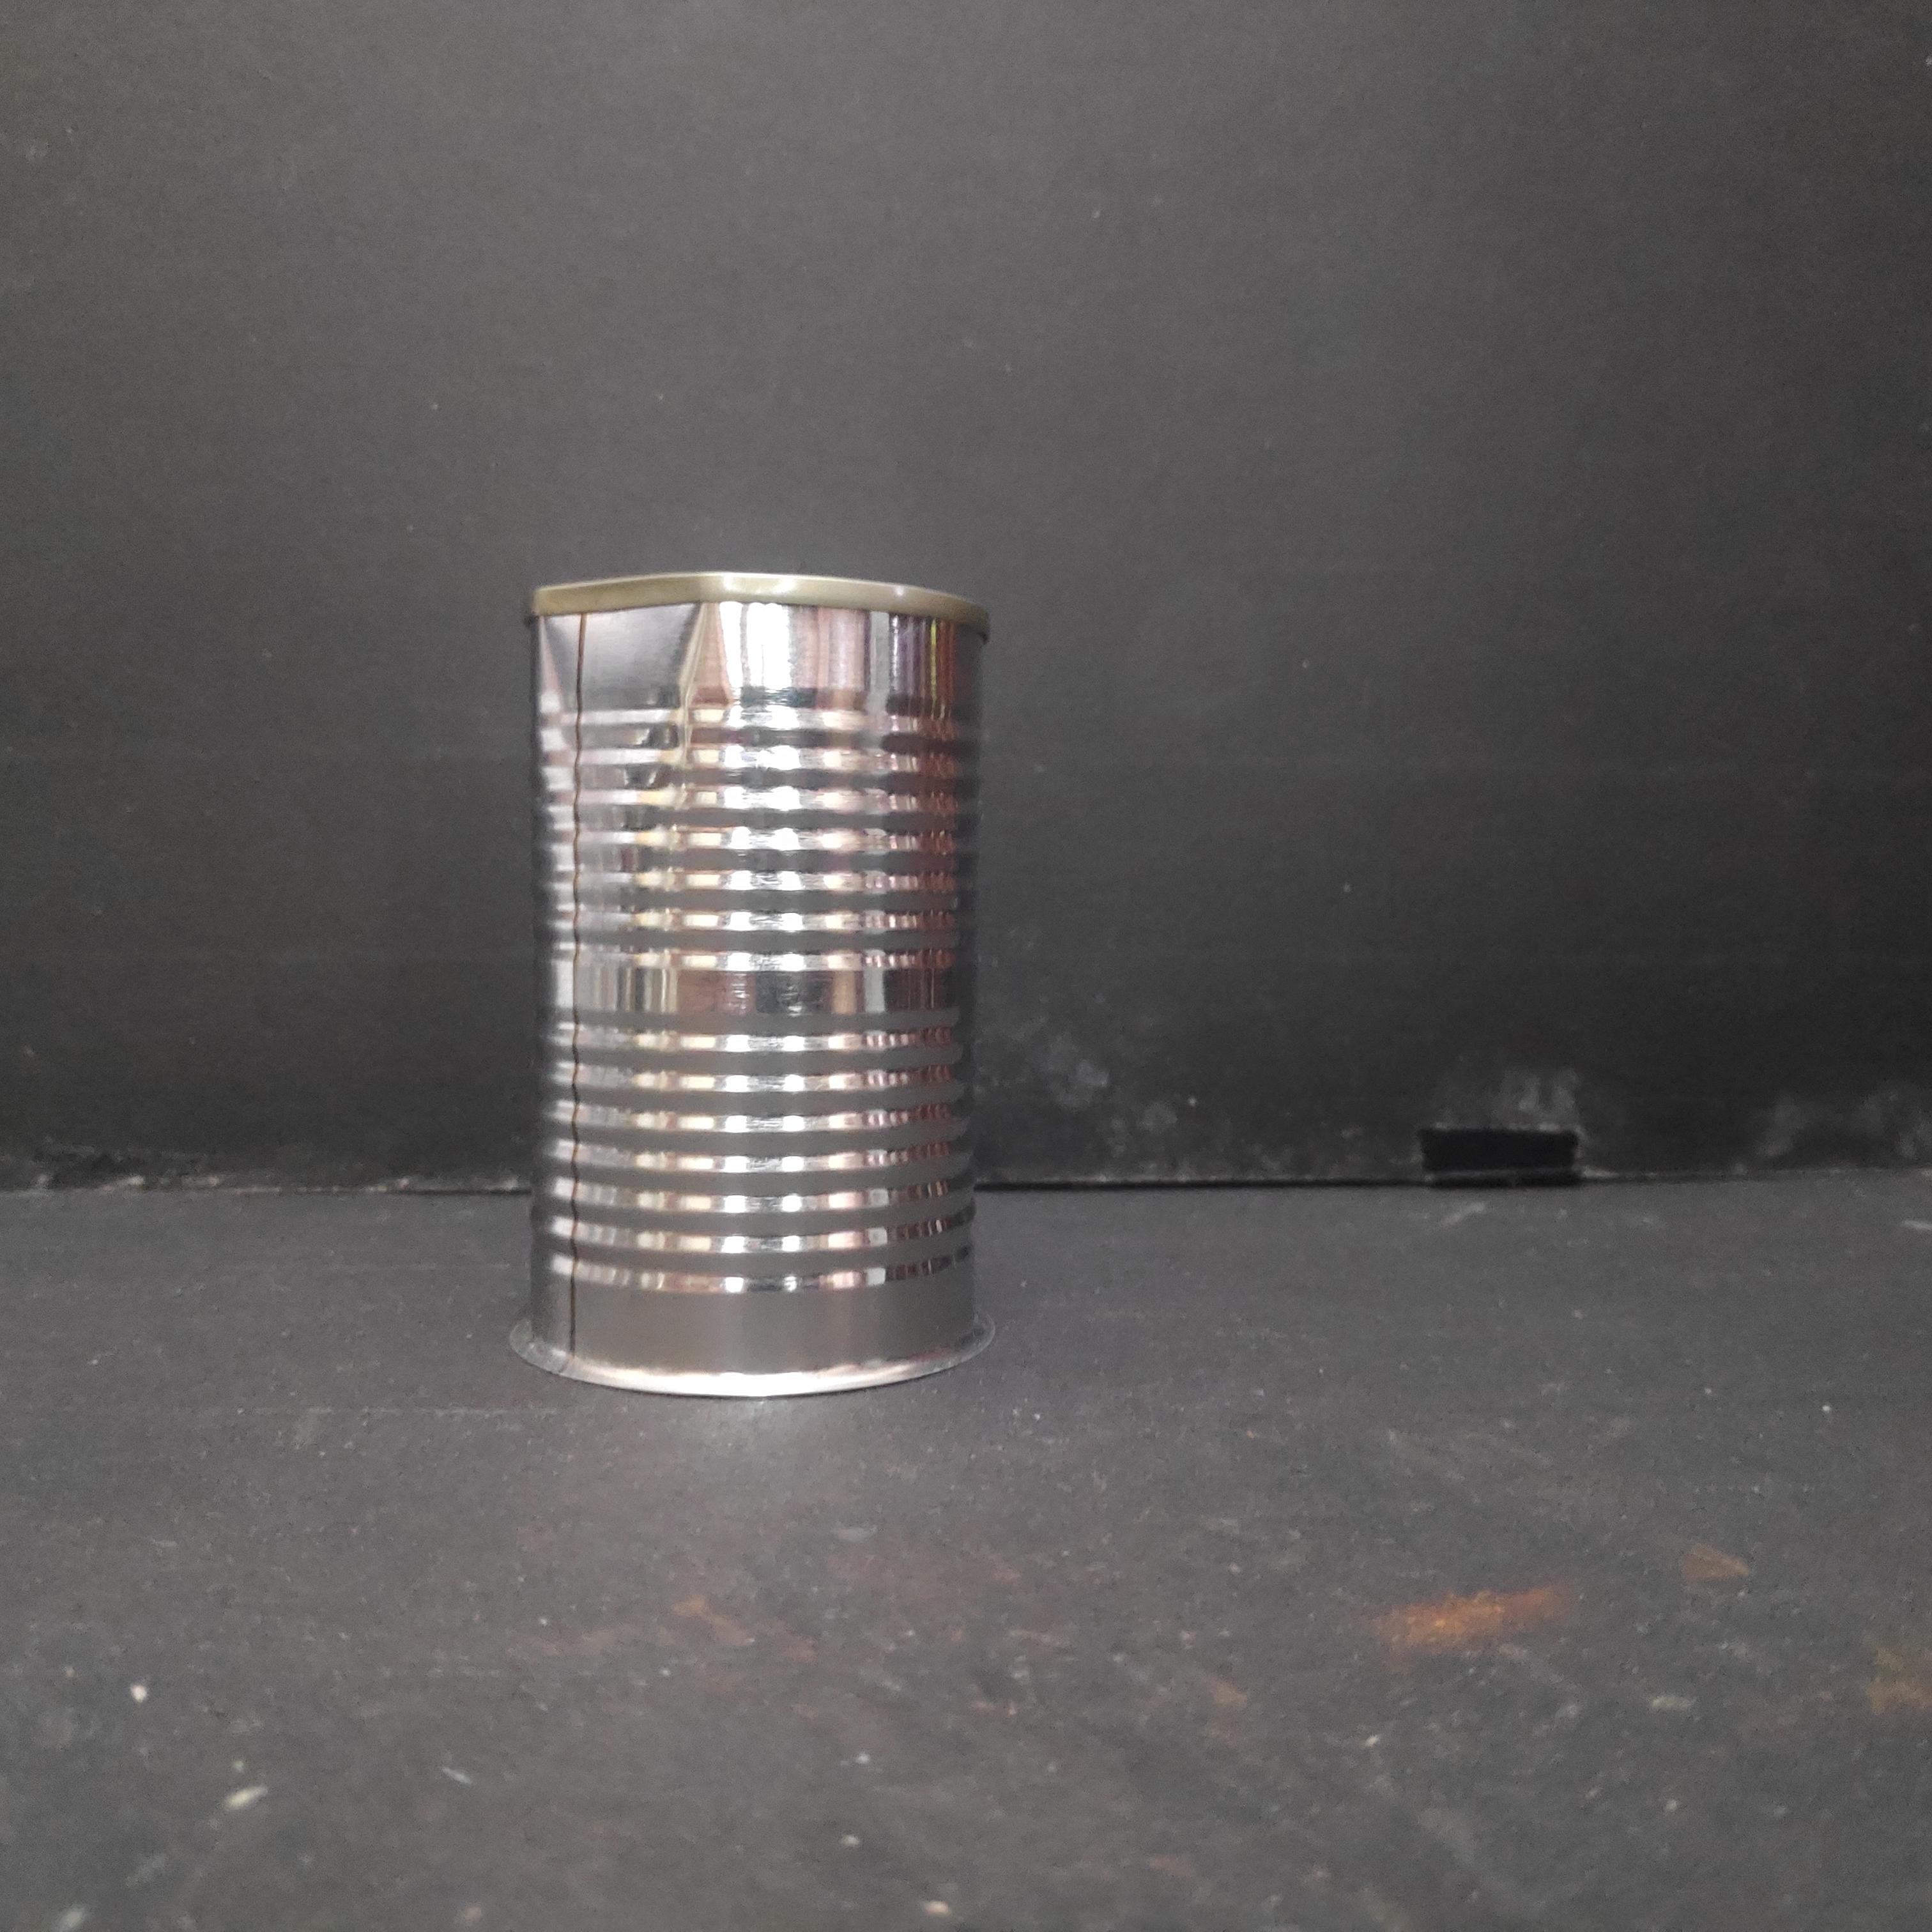Minor Defect: (510, 563, 1001, 1403)
